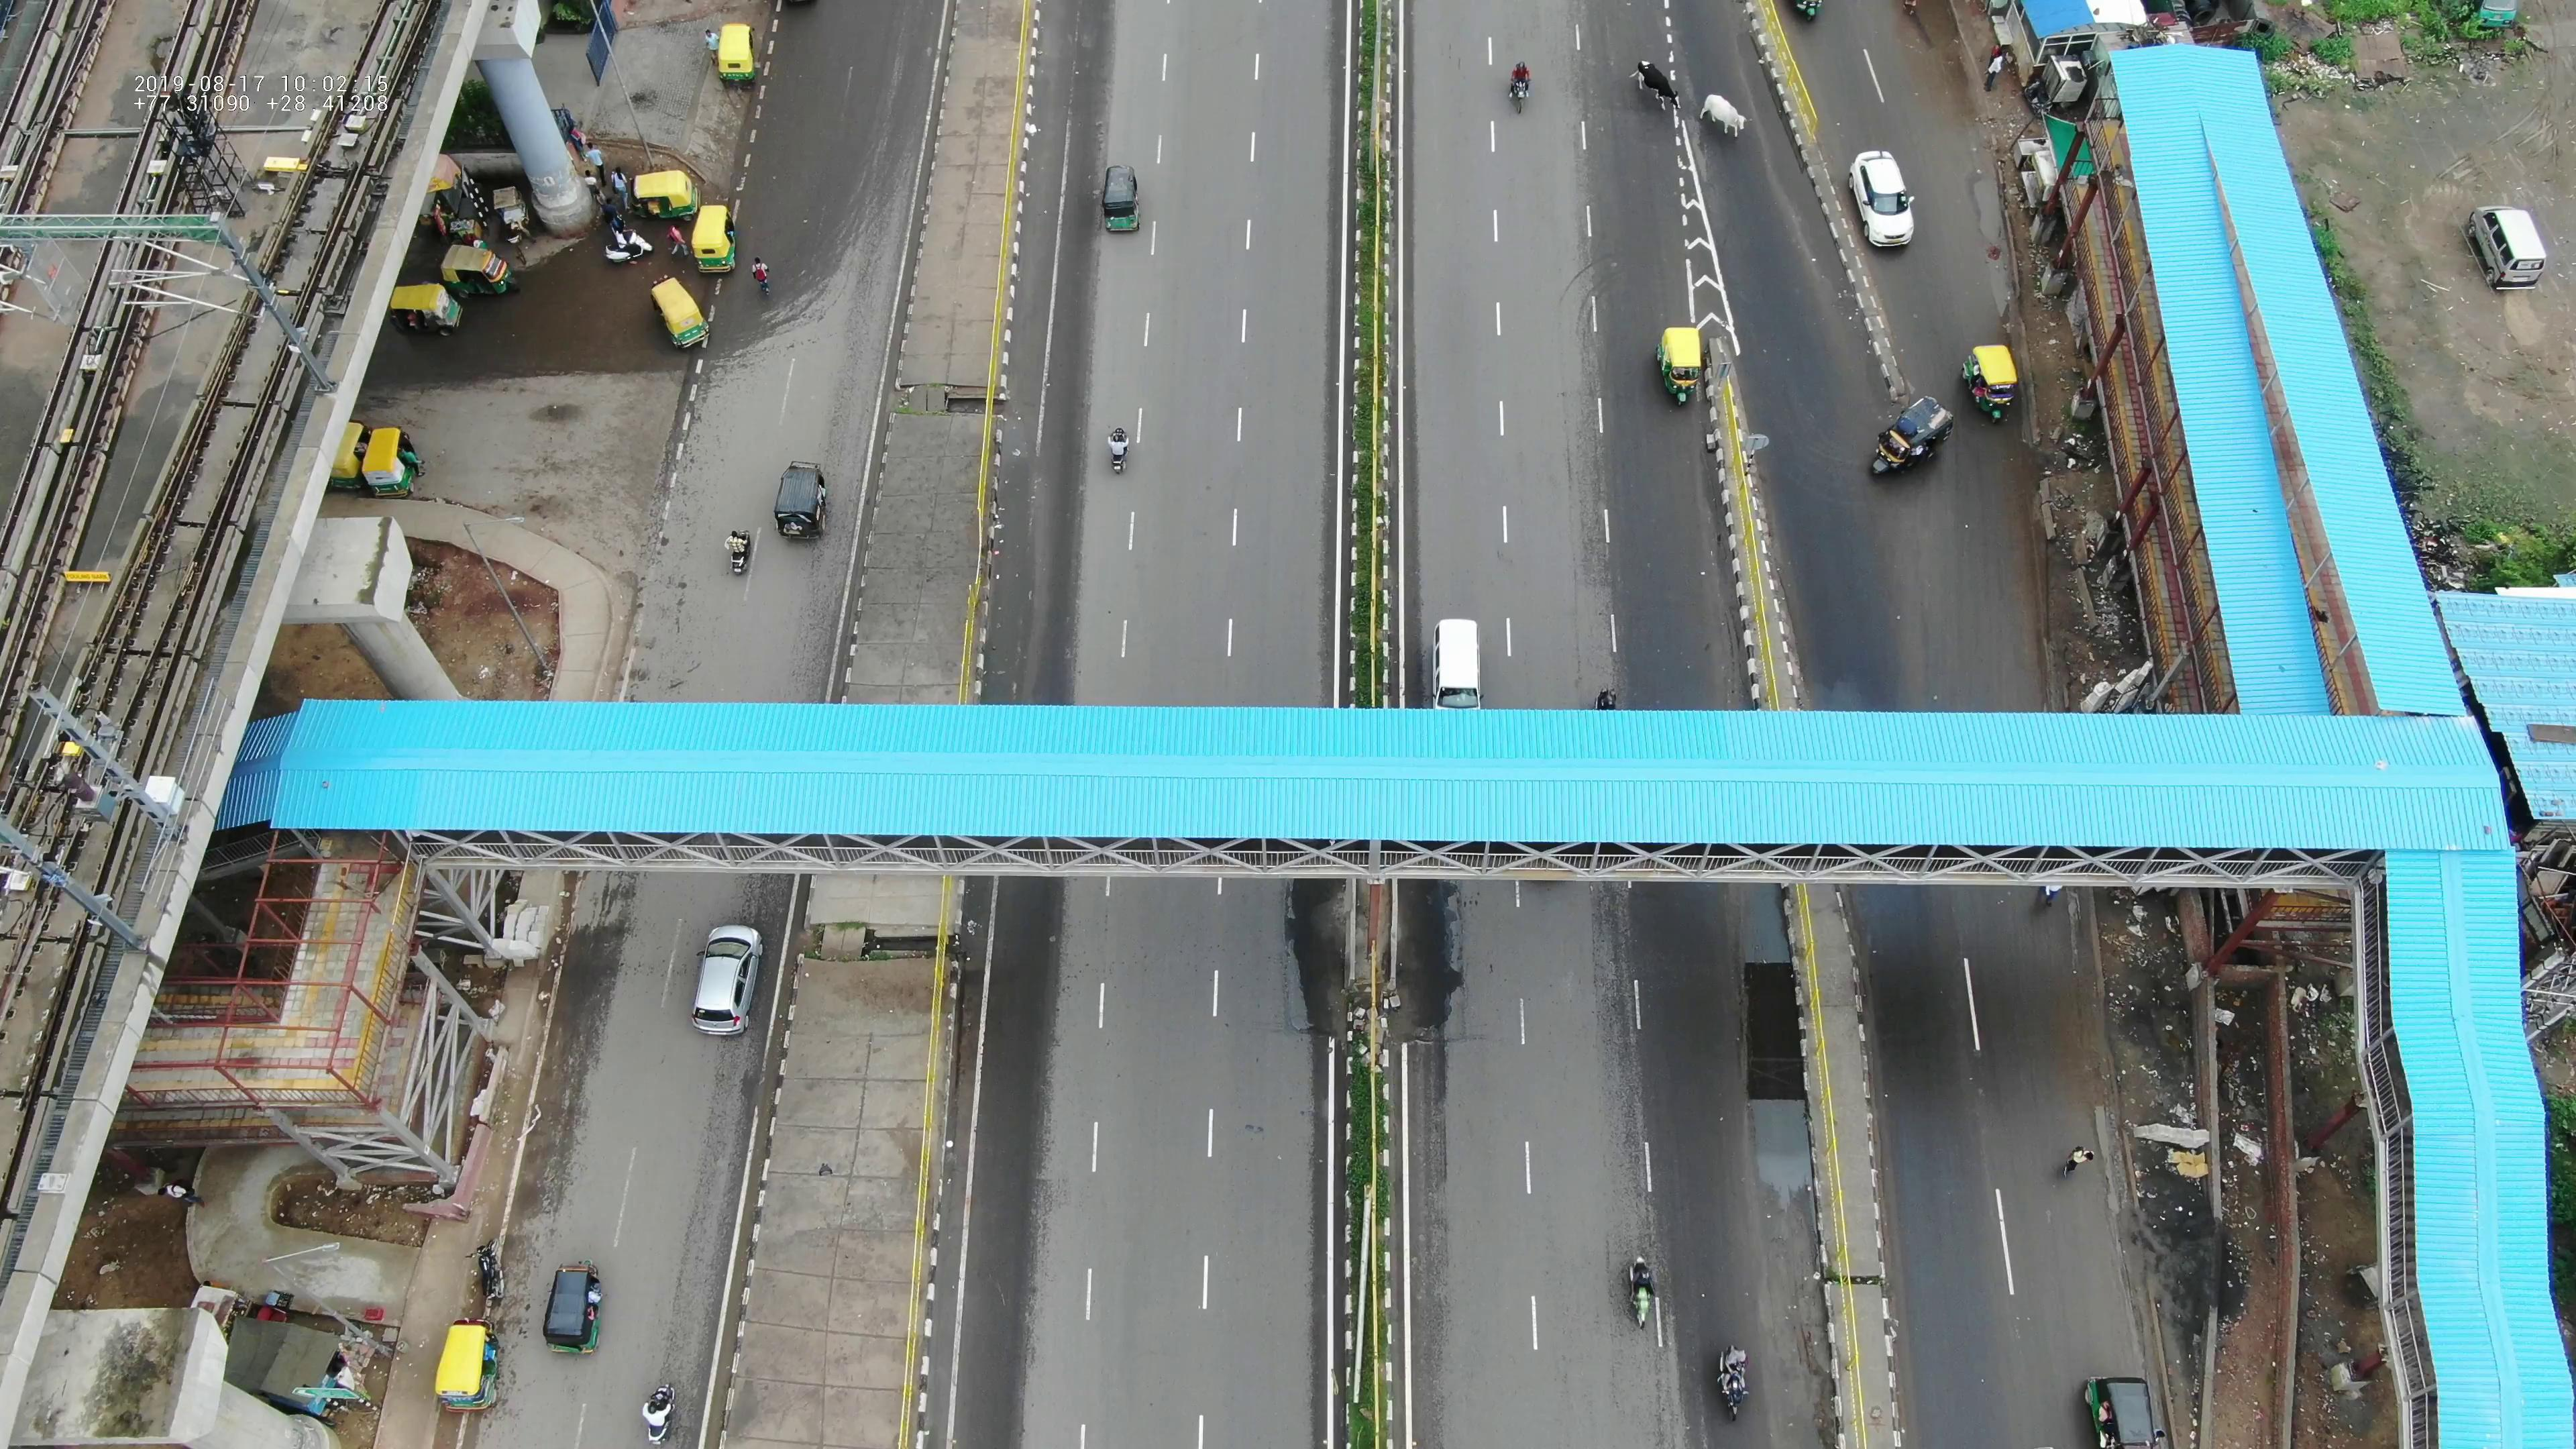Waterlogging: (1720, 892, 1824, 1224), (1739, 48, 1849, 290), (2121, 1131, 2222, 1384)
